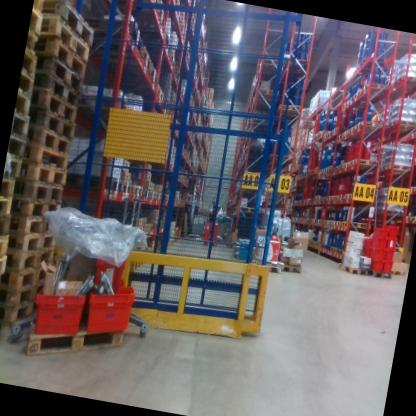pallet: (24, 300, 131, 375), (77, 0, 148, 57), (74, 0, 172, 37), (39, 0, 100, 53), (0, 256, 55, 305), (38, 13, 94, 59), (37, 31, 92, 72), (86, 45, 155, 77), (0, 289, 49, 333), (30, 70, 86, 108), (2, 242, 53, 283), (32, 55, 87, 93), (0, 276, 52, 316), (8, 227, 58, 265), (97, 60, 159, 90), (15, 160, 69, 193), (61, 165, 121, 194), (10, 211, 60, 244), (21, 140, 74, 171), (27, 108, 79, 137), (29, 88, 79, 118), (17, 192, 63, 224), (22, 123, 71, 153), (15, 177, 65, 204), (249, 253, 285, 283), (360, 76, 391, 103), (272, 96, 304, 122), (255, 50, 285, 77), (281, 53, 312, 79), (385, 70, 416, 95), (339, 213, 371, 237), (355, 111, 383, 138), (382, 153, 412, 178), (252, 80, 280, 106), (348, 156, 378, 180), (14, 91, 37, 120), (10, 113, 31, 142), (387, 110, 416, 130), (364, 262, 392, 282), (30, 5, 48, 36), (0, 177, 19, 205), (18, 70, 37, 98), (8, 135, 29, 160), (20, 51, 38, 79), (146, 78, 164, 105), (0, 211, 15, 243), (236, 201, 264, 218), (0, 196, 14, 228), (284, 257, 306, 277), (26, 33, 44, 57), (4, 157, 22, 180), (344, 189, 369, 205), (336, 263, 369, 274), (0, 234, 10, 269), (157, 93, 175, 112), (128, 178, 145, 197), (202, 236, 220, 253), (115, 177, 129, 198), (165, 47, 178, 69), (162, 35, 174, 57), (0, 256, 8, 288), (186, 230, 200, 245), (330, 242, 344, 257), (172, 63, 182, 83), (138, 219, 149, 237), (347, 122, 357, 141), (406, 123, 416, 142), (309, 110, 323, 123), (331, 190, 344, 203), (313, 104, 326, 117), (404, 182, 416, 196), (34, 0, 47, 11), (341, 157, 351, 171), (341, 125, 350, 140), (142, 185, 153, 197), (331, 124, 341, 137), (313, 240, 326, 250), (328, 164, 339, 175), (337, 157, 345, 172), (148, 188, 158, 200), (334, 132, 343, 145), (323, 243, 332, 255), (330, 216, 338, 229), (326, 127, 333, 141), (326, 219, 334, 231), (319, 127, 327, 139), (295, 162, 304, 172), (403, 212, 411, 223), (319, 194, 327, 205), (409, 212, 416, 224), (326, 193, 333, 204), (313, 214, 320, 225), (306, 167, 313, 178), (335, 219, 341, 231), (324, 168, 332, 177), (313, 164, 320, 174), (148, 220, 153, 233), (319, 168, 327, 176), (317, 218, 324, 227), (306, 196, 313, 205), (315, 171, 322, 180), (322, 129, 329, 138), (309, 215, 315, 225), (313, 193, 321, 200), (313, 196, 320, 204), (322, 220, 328, 229), (326, 163, 332, 172), (323, 132, 328, 142), (412, 154, 416, 166), (321, 165, 327, 173), (316, 167, 322, 175), (310, 136, 316, 144), (296, 196, 301, 205), (316, 129, 321, 137), (312, 132, 317, 140), (292, 198, 297, 206), (290, 215, 295, 223), (299, 198, 303, 207), (298, 219, 304, 225), (310, 239, 316, 245), (303, 214, 308, 221), (306, 240, 311, 246), (315, 135, 319, 142), (294, 215, 298, 222), (299, 217, 304, 222), (303, 220, 308, 225), (296, 219, 300, 224), (294, 217, 298, 221), (290, 219, 295, 222), (297, 216, 299, 220)
pallet_truck: (200, 200, 229, 251)
small_load_carrier: (78, 275, 144, 344), (25, 281, 89, 342), (93, 244, 133, 289), (370, 219, 390, 239), (367, 255, 383, 273), (386, 234, 400, 250), (370, 246, 385, 260), (381, 259, 395, 274), (387, 225, 400, 241), (371, 236, 387, 248), (383, 248, 397, 261), (203, 220, 214, 231), (361, 236, 371, 248), (361, 246, 370, 259), (210, 220, 219, 233), (201, 229, 210, 241), (208, 232, 218, 242)
